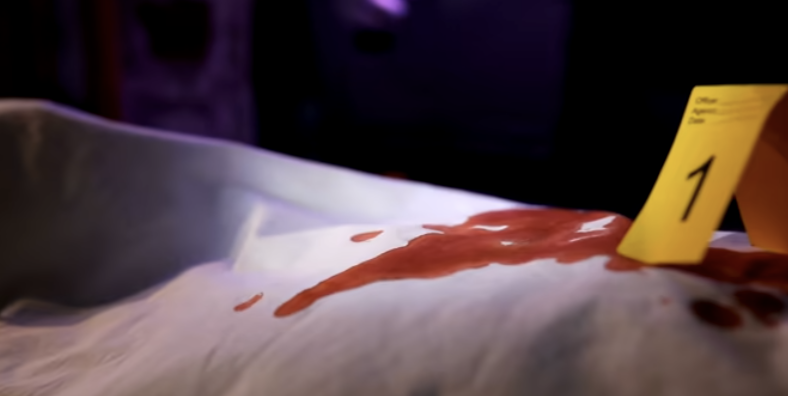blood_40.png: (210, 181, 788, 349)
